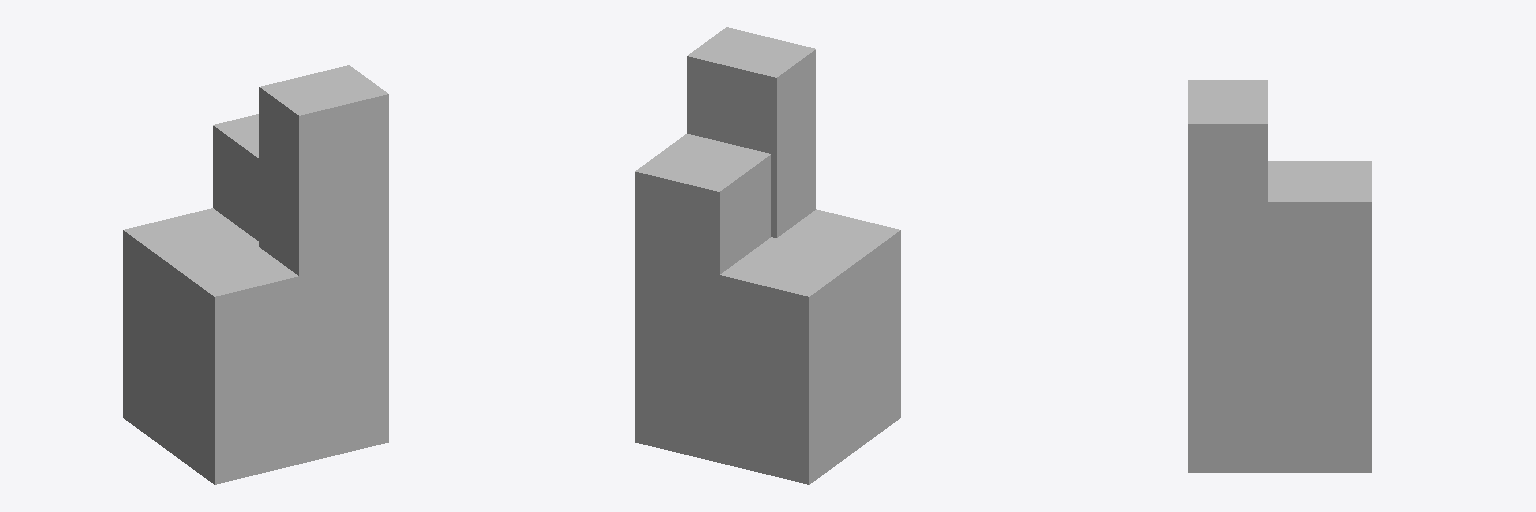
Rendered from 黄色房子.obj.
The picture shows the model from 3 angles: view 1: azimuth 30°, elevation 25°; view 2: azimuth 150°, elevation 25°; view 3: azimuth 270°, elevation 25°; orthographic projection.
Bounding box in the file's own units: 33 × 63 × 30.